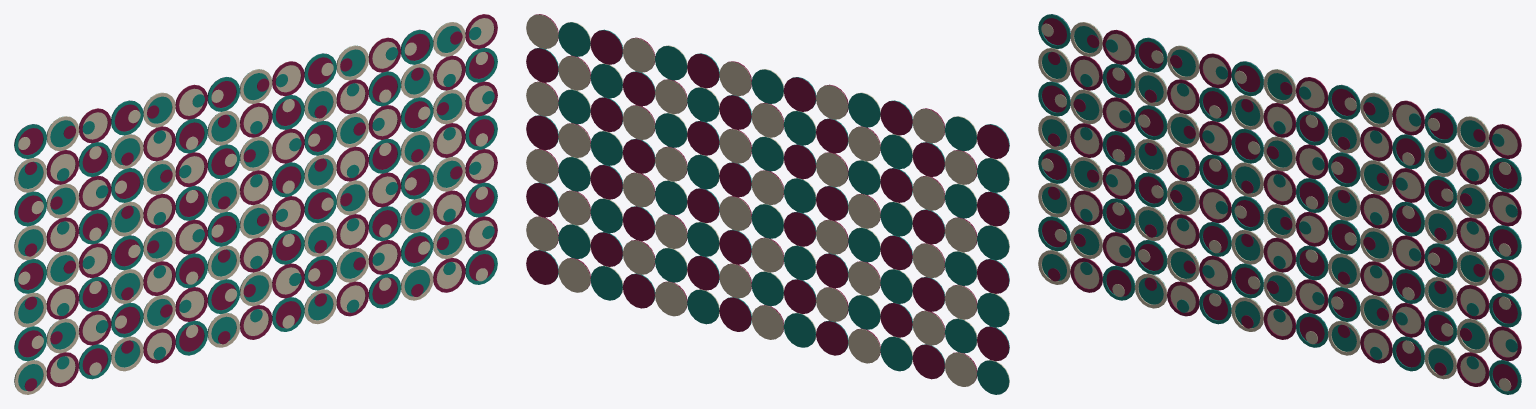
Rendered from めだま.fbx.
The picture shows the model from 3 angles, left to right: view 1: azimuth 30°, elevation 25°; view 2: azimuth 150°, elevation 25°; view 3: azimuth 330°, elevation 25°; orthographic projection.
Parts seen in each view (by area): view 1: 背面_8, 背面_42, 背面_47, 背面_71, 円柱_2, 背面_48, 背面_85, 背面_86, 背面_49, 円柱_24, 背面_69, 背面_70 (+108 smaller); view 2: 背面_83, 円柱_10, 背面_33, 背面_51, 背面_70, 背面_84, 背面_100, 背面_23, 背面_27, 背面_28, 背面_42, 背面_53 (+108 smaller); view 3: 背面_56, 背面_71, 背面_105, 円柱_6, 円柱_2, 背面_75, 背面_86, 背面_2, 背面_47, 円柱_14, 背面_90, 背面_97 (+108 smaller).
Boxes of the visible parts, left/top/right/bottom form: 背面_8: left=368, top=37, right=396, bottom=68; 背面_42: left=79, top=210, right=107, bottom=240; 背面_47: left=240, top=170, right=268, bottom=201; 背面_71: left=240, top=237, right=268, bottom=268; 円柱_2: left=14, top=124, right=43, bottom=154; 背面_48: left=272, top=164, right=300, bottom=193; 背面_85: left=207, top=280, right=235, bottom=310; 背面_86: left=240, top=271, right=268, bottom=302; 背面_49: left=304, top=158, right=333, bottom=185; 円柱_24: left=433, top=156, right=461, bottom=187; 背面_69: left=176, top=253, right=204, bottom=284; 背面_70: left=207, top=247, right=236, bottom=276; 背面_83: left=848, top=295, right=880, bottom=329; 円柱_10: left=590, top=30, right=622, bottom=64; 背面_33: left=719, top=129, right=751, bottom=163; 背面_51: left=622, top=139, right=654, bottom=173; 背面_70: left=783, top=245, right=815, bottom=280; 背面_84: left=816, top=287, right=848, bottom=321; 背面_100: left=783, top=313, right=815, bottom=347; 背面_23: left=558, top=56, right=590, bottom=90; 背面_27: left=912, top=176, right=944, bottom=210; 背面_28: left=880, top=168, right=912, bottom=202; 背面_42: left=912, top=210, right=944, bottom=244; 背面_53: left=558, top=123, right=590, bottom=157; 背面_56: left=1138, top=174, right=1167, bottom=203; 背面_71: left=1267, top=237, right=1295, bottom=268; 背面_105: left=1396, top=336, right=1423, bottom=367; 円柱_6: left=1235, top=61, right=1263, bottom=92; 円柱_2: left=1042, top=14, right=1070, bottom=45; 背面_75: left=1396, top=269, right=1424, bottom=299; 背面_86: left=1267, top=271, right=1295, bottom=302; 背面_2: left=1138, top=37, right=1166, bottom=68; 背面_47: left=1267, top=174, right=1295, bottom=201; 円柱_14: left=1042, top=149, right=1070, bottom=179; 背面_90: left=1396, top=303, right=1422, bottom=333; 背面_97: left=1138, top=275, right=1165, bottom=304.
Size of the model in its own units: 1500 by 798 by 5.14.
